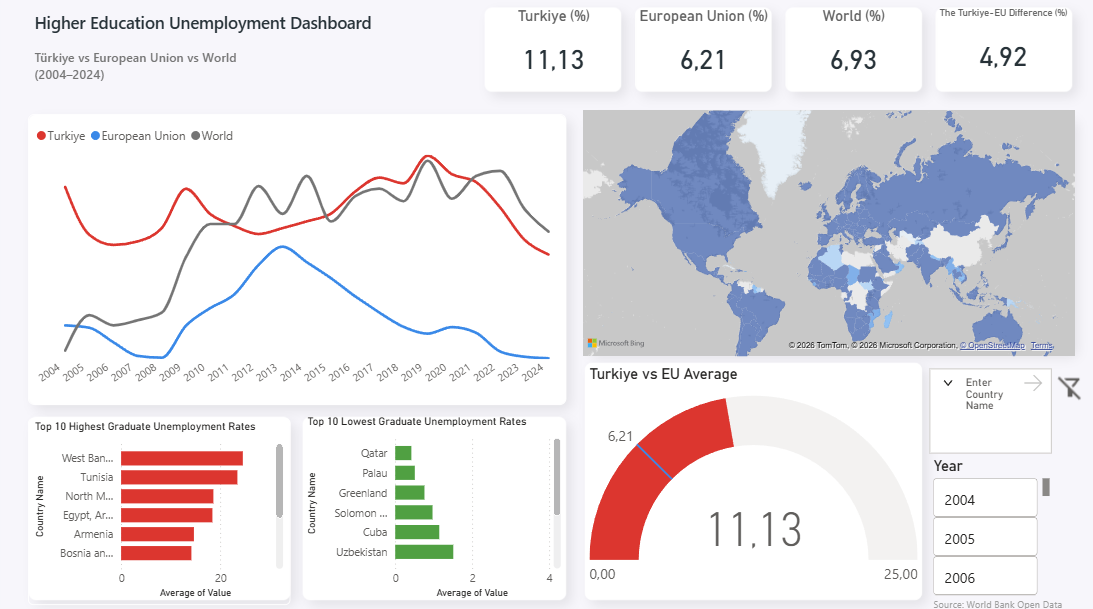

What the dashboard file says about the page in this screenshot:
{"tool":"powerbi","page":{"name":"Page 1","canvas":[1280,720],"ordinal":0},"visuals":[{"type":"cardVisual","title":"Turkiye (%)","fields":{"Data":["Avg(Data.Value)"]},"box":[566.1,21.4,161.5,96.3],"z":0},{"type":"cardVisual","title":"European Union (%)","fields":{"Data":["Avg(Data.Value)"]},"box":[735.3,21.4,161.5,96.3],"z":1000},{"type":"cardVisual","title":"World (%)","fields":{"Data":["Avg(Data.Value)"]},"box":[904.6,21.4,161.5,96.3],"z":2000},{"type":"lineChart","title":"W","fields":{"Y":["Data.Turkey","Data.European Union"],"Category":["Data.Year"],"Y2":["CountNonNull(Data.Country Name)"]},"box":[54.5,142,606.9,327.8],"z":3000},{"type":"cardVisual","title":"The Turkiye-EU Difference (%)","fields":{"Data":["Data.Turkey vs EU Difference"]},"box":[1074.8,21.4,158.5,96.3],"z":4000},{"type":"filledMap","fields":{"Category":["Data.Country Name","Data.Value"]},"box":[675,133.3,564.1,286.9],"z":5000},{"type":"clusteredBarChart","title":"Top 10 Highest Graduate Unemployment Rates","fields":{"Category":["Data.Country Name"],"Y":["Avg(Data.Value)"]},"box":[54.5,484.4,295.7,211.1],"z":6000},{"type":"clusteredBarChart","title":"Top 10 Lowest Graduate Unemployment Rates","fields":{"Category":["Data.Country Name"],"Y":["Avg(Data.Value)"]},"box":[363.8,481.5,295.7,211.1],"z":7000},{"type":"textSlicer","fields":{"Values":["Data.Country Name"]},"box":[1066,424.1,147.8,106],"z":8000},{"type":"advancedSlicerVisual","fields":{"Values":["Data.Year"]},"box":[1069.9,529.1,141,162.4],"z":9000},{"type":"gauge","title":"Turkiye vs EU Average","fields":{"Y":["Data.Turkey"],"TargetValue":["Data.European Union"]},"box":[681.8,425,380.3,266.5],"z":10000},{"type":"actionButton","box":[1179.6,430.8,100.4,39.5],"z":11000},{"type":"textbox","box":[56.4,21.4,455.6,103.8],"z":11001},{"type":"textbox","box":[1070.2,680,179.3,30.4],"z":11002}]}

Visuals, with their boxes in screenshot pixels (x1, y1, x2, y2), scaled from the page's 1280x720 canvas onto the 1093x609 screenshot:
"Turkiye (%)" cardVisual: {"left": 483, "top": 18, "right": 621, "bottom": 100}
"European Union (%)" cardVisual: {"left": 628, "top": 18, "right": 766, "bottom": 100}
"World (%)" cardVisual: {"left": 772, "top": 18, "right": 910, "bottom": 100}
"W" lineChart: {"left": 47, "top": 120, "right": 565, "bottom": 397}
"The Turkiye-EU Difference (%)" cardVisual: {"left": 918, "top": 18, "right": 1053, "bottom": 100}
filledMap - Data.Country Name x Data.Value: {"left": 576, "top": 113, "right": 1058, "bottom": 355}
"Top 10 Highest Graduate Unemployment Rates" clusteredBarChart: {"left": 47, "top": 410, "right": 299, "bottom": 588}
"Top 10 Lowest Graduate Unemployment Rates" clusteredBarChart: {"left": 311, "top": 407, "right": 563, "bottom": 586}
textSlicer - Data.Country Name: {"left": 910, "top": 359, "right": 1036, "bottom": 448}
advancedSlicerVisual - Data.Year: {"left": 914, "top": 448, "right": 1034, "bottom": 585}
"Turkiye vs EU Average" gauge: {"left": 582, "top": 359, "right": 907, "bottom": 585}
actionButton: {"left": 1007, "top": 364, "right": 1092, "bottom": 398}
textbox: {"left": 48, "top": 18, "right": 437, "bottom": 106}
textbox: {"left": 914, "top": 575, "right": 1067, "bottom": 601}
